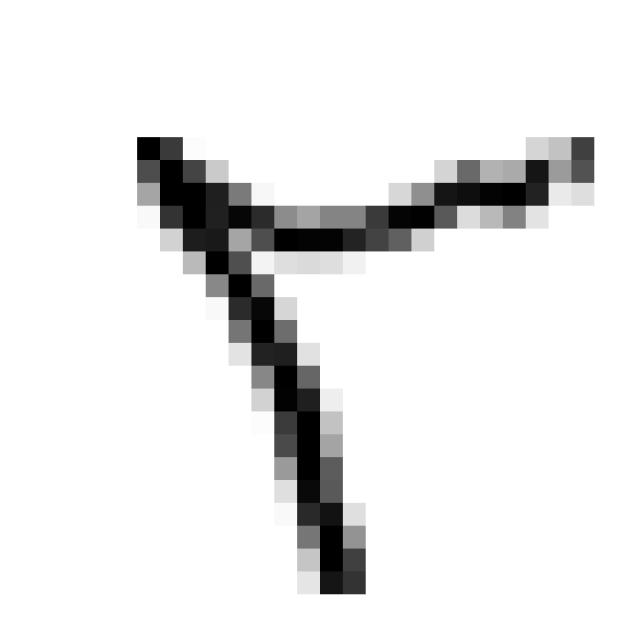3 -three-: (105, 107, 614, 613)
